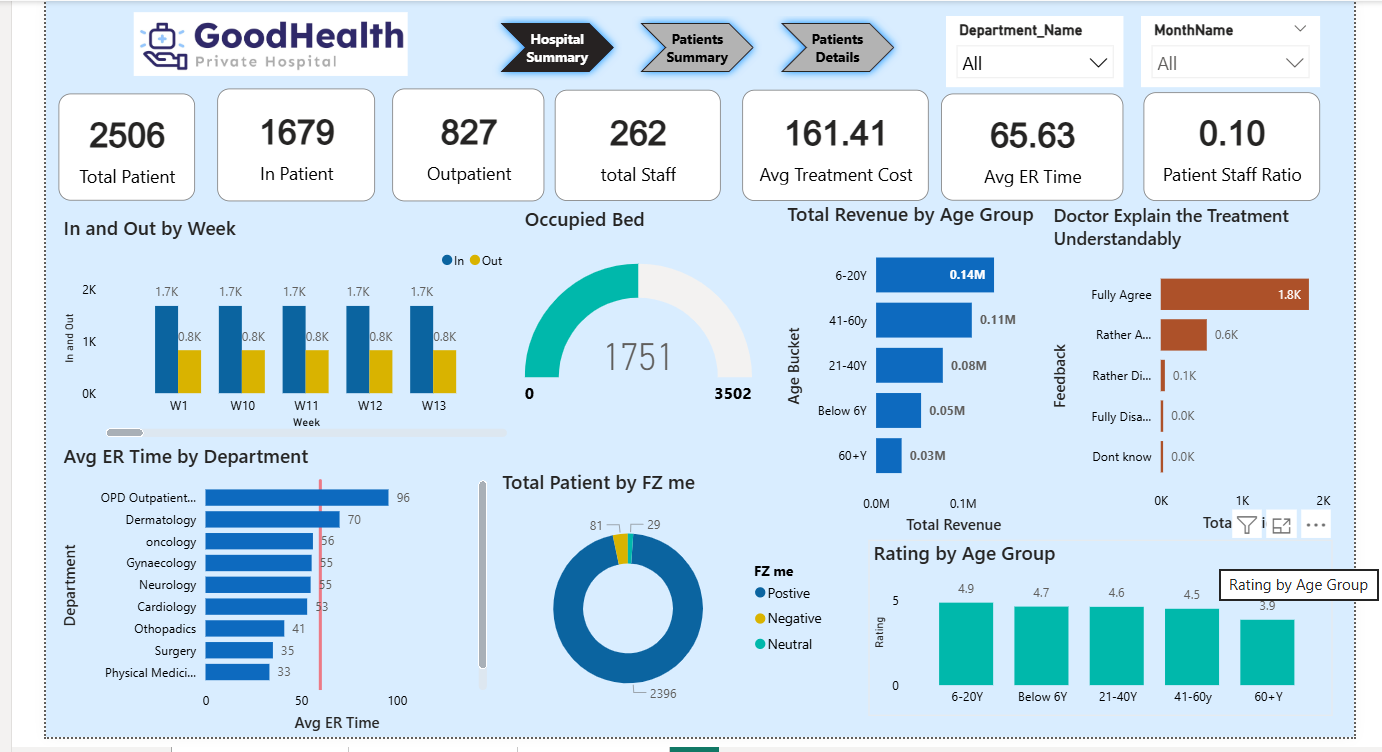

What the dashboard file says about the page in this screenshot:
{"tool":"powerbi","page":{"name":"Hospital Summary ","canvas":[1280,720],"ordinal":0},"visuals":[{"type":"cardVisual","fields":{"Data":["Measure.Total Patient"]},"box":[12.2,90.5,133.3,105.2],"z":1000},{"type":"slicer","fields":{"Values":["Department.Department_Name"]},"box":[880.4,14.7,173.6,69.7],"z":3000},{"type":"slicer","fields":{"Values":["Calendar_date.MonthName"]},"box":[1071.2,14.7,174.9,69.7],"z":4000},{"type":"cardVisual","fields":{"Data":["Measure.In Patient"]},"box":[167.5,85.6,154.1,110.1],"z":5000},{"type":"cardVisual","fields":{"Data":["Measure.Outpatient"]},"box":[338.7,85.6,149.2,110.1],"z":6000},{"type":"cardVisual","fields":{"Data":["Bed_Detail.total Staff"]},"box":[497.7,86.8,162.6,108.8],"z":7000},{"type":"cardVisual","fields":{"Data":["Measure.Avg Treatment Cost"]},"box":[681.1,86.8,182.2,108.8],"z":8000},{"type":"cardVisual","fields":{"Data":["Measure.Avg ER Time"]},"box":[875.5,90.5,178.5,105.2],"z":9000},{"type":"cardVisual","fields":{"Data":["Bed_Detail.Patient Staff Ratio"]},"box":[1073.6,89.3,172.4,106.4],"z":10000},{"type":"clusteredColumnChart","fields":{"Y":["Calendar_date.In Patient","Calendar_date.Outpatient"],"Category":["Calendar_date.WeekName"]},"box":[12.2,209.1,443.9,222.6],"z":11000},{"type":"gauge","fields":{"Y":["Divide(Measure.Occupied Bed, ScopedEval(Measure.Occupied Bed, []))"]},"box":[463.5,200.5,232.3,231.1],"z":12000},{"type":"clusteredBarChart","title":"Total Revenue by Age Group","fields":{"Y":["Measure.Total Revenue"],"Category":["Detail data dataset.Age Bucket"]},"box":[720,195.6,262.8,331.3],"z":13000},{"type":"barChart","fields":{"Y":["Measure.Avg ER Time"],"Category":["Department.Department_Name"]},"box":[12.2,431.7,424.3,288.6],"z":14000},{"type":"barChart","title":"Doctor Explain the Treatment Understandably","fields":{"Y":["Measure.Total Patient"],"Category":["Detail data dataset.Feedback"]},"box":[981.2,197.5,287.5,326.2],"z":15000},{"type":"columnChart","title":"Rating by Age Group","fields":{"Y":["Measure.Rating"],"Category":["Detail data dataset.Age Bucket"]},"box":[804.6,527,453.7,172.4],"z":16000},{"type":"donutChart","fields":{"Y":["Measure.Total Patient"],"Category":["Detail data dataset.FZ me"]},"box":[441.3,457.2,331.3,249.4],"z":17000},{"type":"pageNavigator","box":[436.6,13.5,402.3,64.8],"z":18000},{"type":"actionButton","box":[579.6,20.8,116.2,41.6],"z":18002},{"type":"actionButton","box":[720.2,20.8,110.1,40.4],"z":18003},{"type":"image","box":[12.2,6.1,414.5,72.1],"z":18004}]}

Visuals, with their boxes on the page's 1280x720 design canvas (x1, y1, x2, y2). These are canvas units, not pixel positions in the 1382x752 screenshot, which may show the page scaled, cropped or inside an application window:
cardVisual - Measure.Total Patient: [x1=12, y1=90, x2=146, y2=196]
slicer - Department.Department_Name: [x1=880, y1=15, x2=1054, y2=84]
slicer - Calendar_date.MonthName: [x1=1071, y1=15, x2=1246, y2=84]
cardVisual - Measure.In Patient: [x1=168, y1=86, x2=322, y2=196]
cardVisual - Measure.Outpatient: [x1=339, y1=86, x2=488, y2=196]
cardVisual - Bed_Detail.total Staff: [x1=498, y1=87, x2=660, y2=196]
cardVisual - Measure.Avg Treatment Cost: [x1=681, y1=87, x2=863, y2=196]
cardVisual - Measure.Avg ER Time: [x1=876, y1=90, x2=1054, y2=196]
cardVisual - Bed_Detail.Patient Staff Ratio: [x1=1074, y1=89, x2=1246, y2=196]
clusteredColumnChart - Calendar_date.In Patient x Calendar_date.Outpatient: [x1=12, y1=209, x2=456, y2=432]
gauge - Divide(Measure.Occupied Bed, ScopedEval(Measure.Occupied Bed, [])): [x1=464, y1=200, x2=696, y2=432]
"Total Revenue by Age Group" clusteredBarChart: [x1=720, y1=196, x2=983, y2=527]
barChart - Measure.Avg ER Time x Department.Department_Name: [x1=12, y1=432, x2=436, y2=720]
"Doctor Explain the Treatment Understandably" barChart: [x1=981, y1=198, x2=1269, y2=524]
"Rating by Age Group" columnChart: [x1=805, y1=527, x2=1258, y2=699]
donutChart - Measure.Total Patient x Detail data dataset.FZ me: [x1=441, y1=457, x2=773, y2=707]
pageNavigator: [x1=437, y1=14, x2=839, y2=78]
actionButton: [x1=580, y1=21, x2=696, y2=62]
actionButton: [x1=720, y1=21, x2=830, y2=61]
image: [x1=12, y1=6, x2=427, y2=78]
